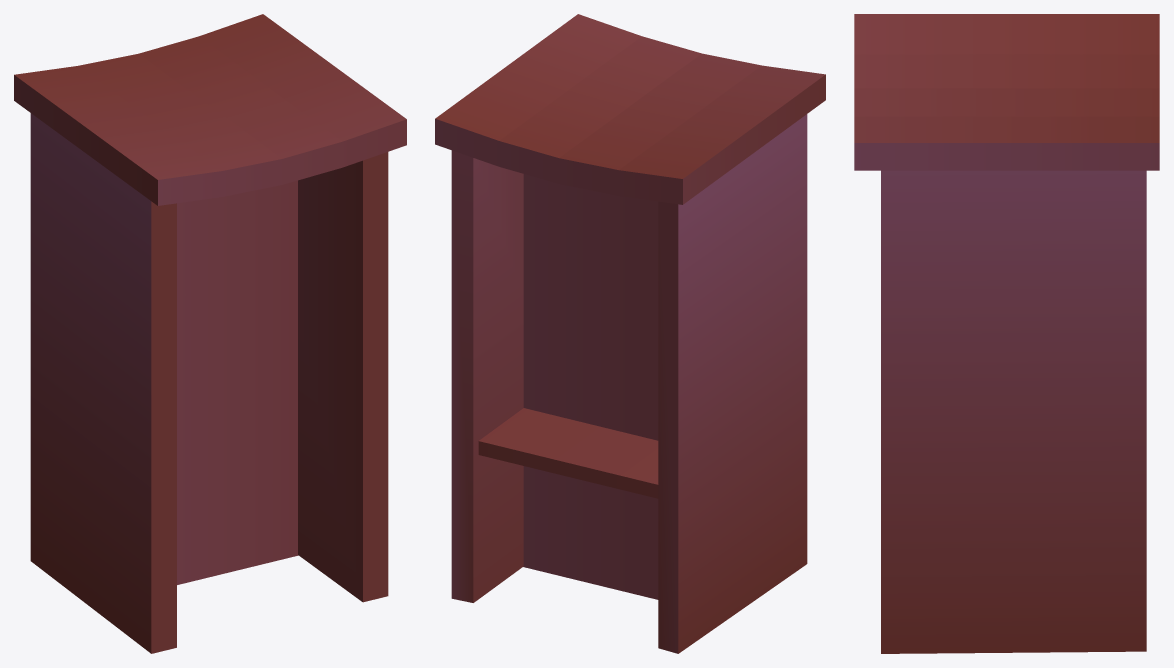
The model's file is B01_Chaise_bar_2.fbx.
3 renders of one model, left to right at view 1: azimuth 30°, elevation 25°; view 2: azimuth 150°, elevation 25°; view 3: azimuth 270°, elevation 25°, orthographic. The views are drawn at different scales.
Parts seen in each view (by area): view 1: B01_Chaise_bar_2; view 2: B01_Chaise_bar_2; view 3: B01_Chaise_bar_2.
Boxes of the visible parts, x1,y1,x2,y2 form: B01_Chaise_bar_2: (14,14,406,653); B01_Chaise_bar_2: (435,14,825,653); B01_Chaise_bar_2: (854,14,1159,653).
Size of the model in its own units: 37.59 by 70 by 37.59.
